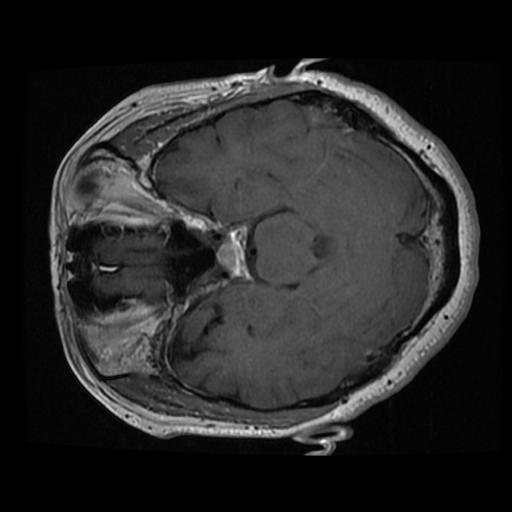pituitary tumour: (218, 242, 239, 273)
